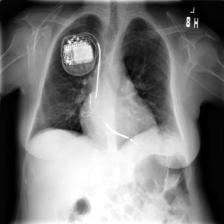normal: (22, 12, 188, 158)
